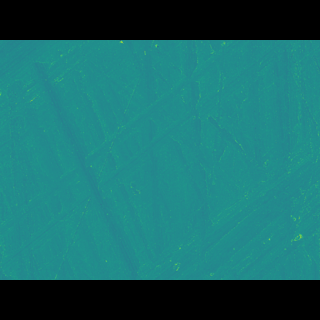Loch: (0, 68, 299, 240), (135, 140, 320, 250)
